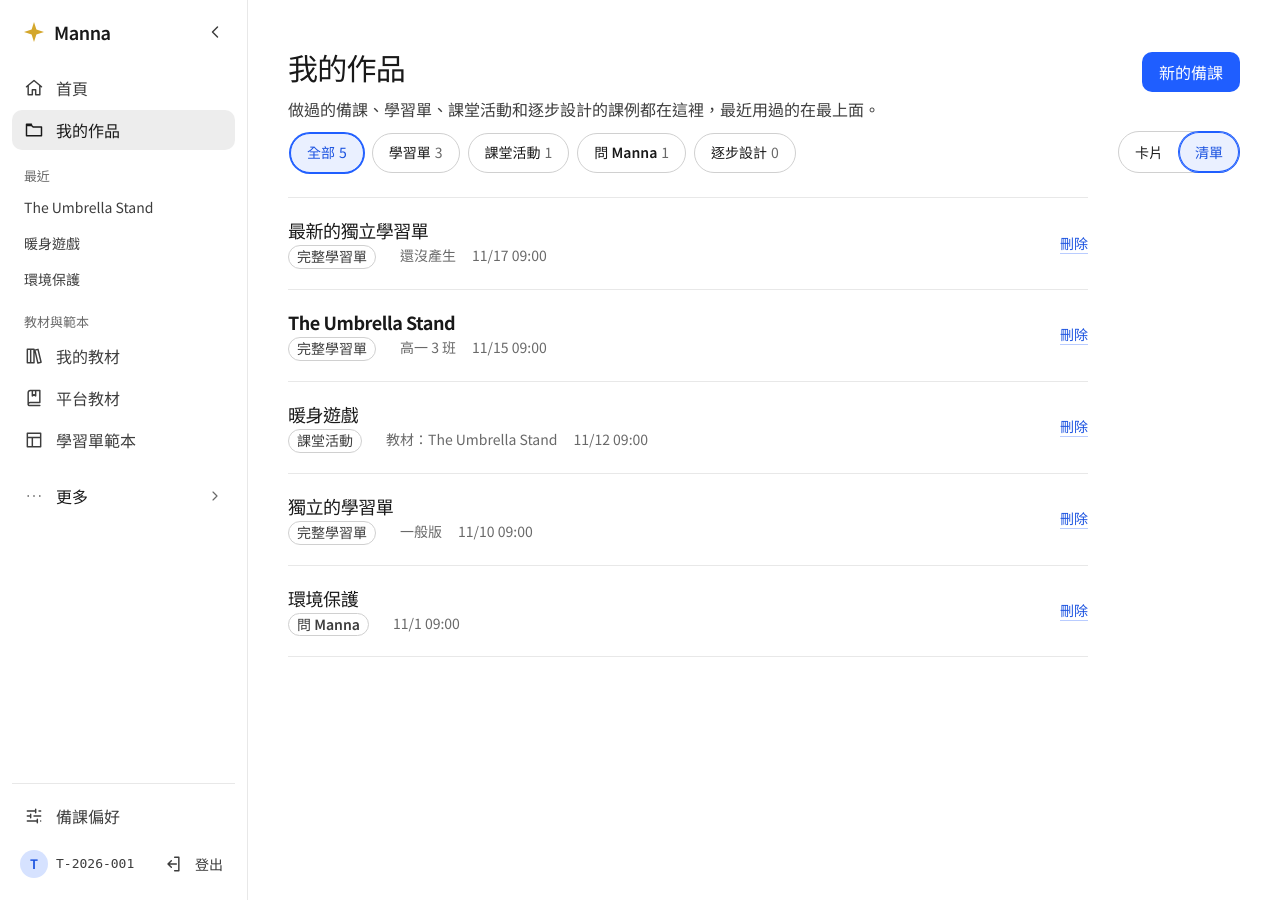
Test: 我的作品 › deletes from the list view too, and says a failure in the row
The width and height of the screenshot is (1280, 900).
Expected: the list named "我的作品" is shown, [288,197,1088,657]
Click the button with aria-label "刪除 獨立的學習單" at (1074, 519), box [1060,508,1088,530]
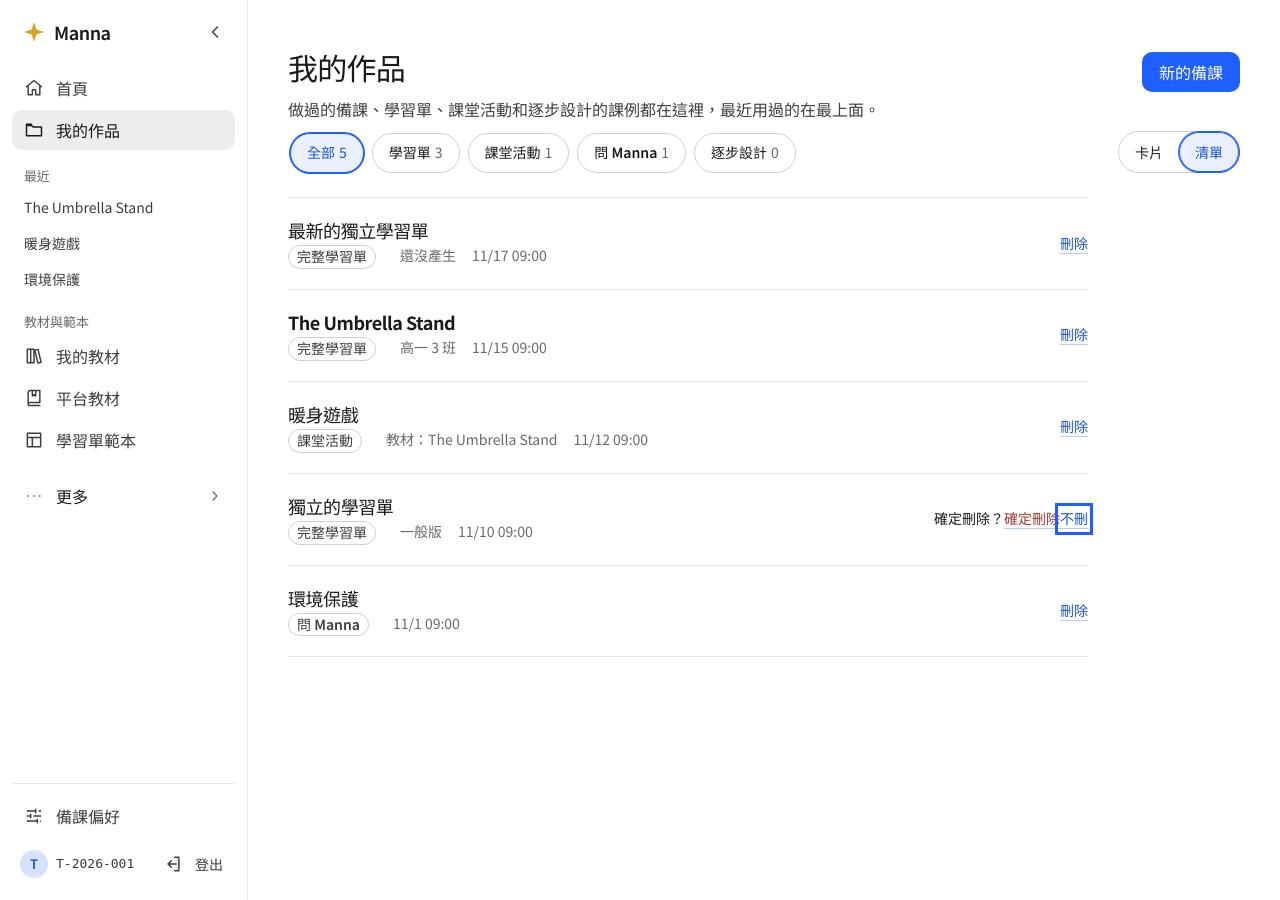
Click the button "確定刪除" at (1032, 519), box [1004,508,1060,530]
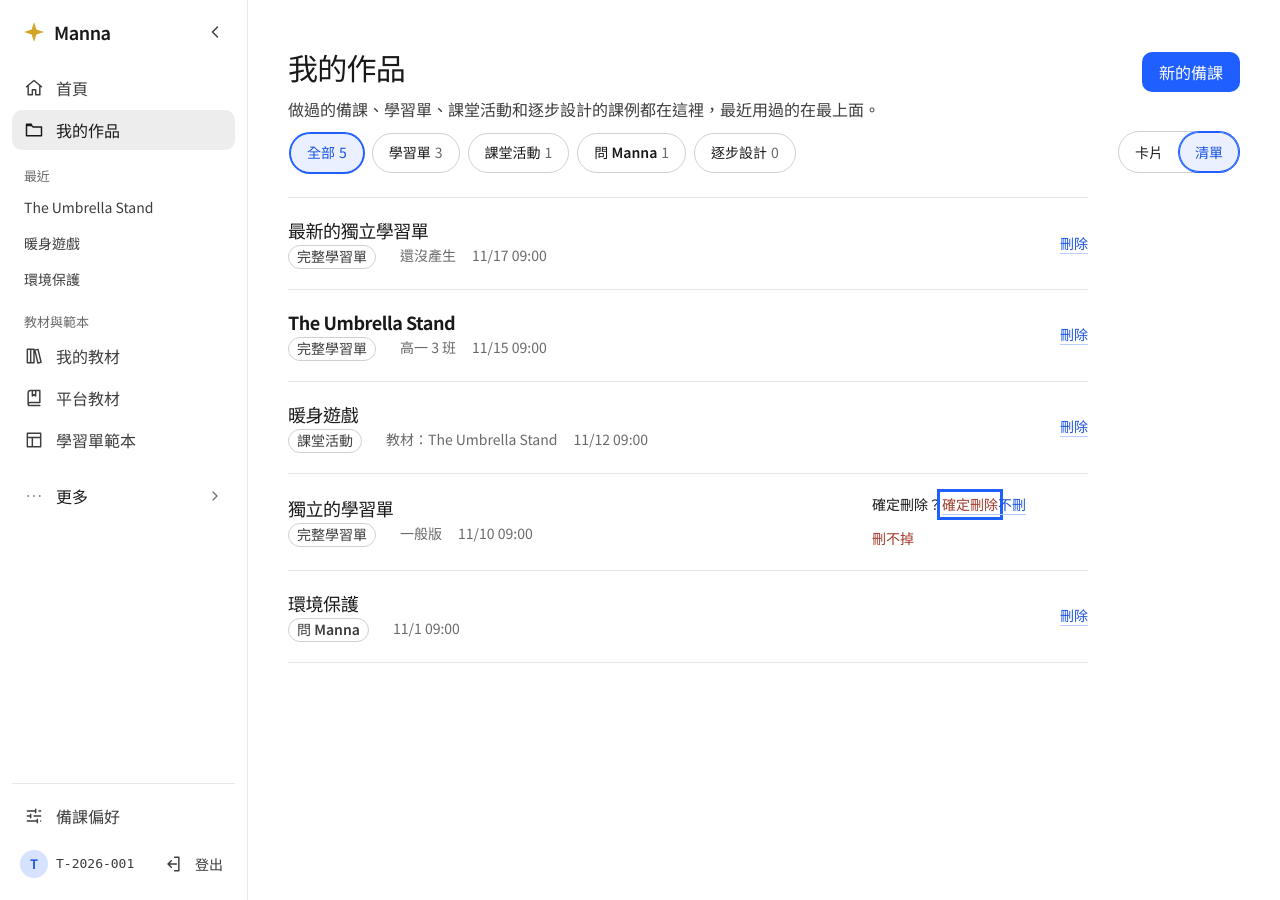
Expected: the message reads "刪不掉", [872,528,914,548]
Click the button "不刪" at (1012, 504), box [998,494,1026,515]
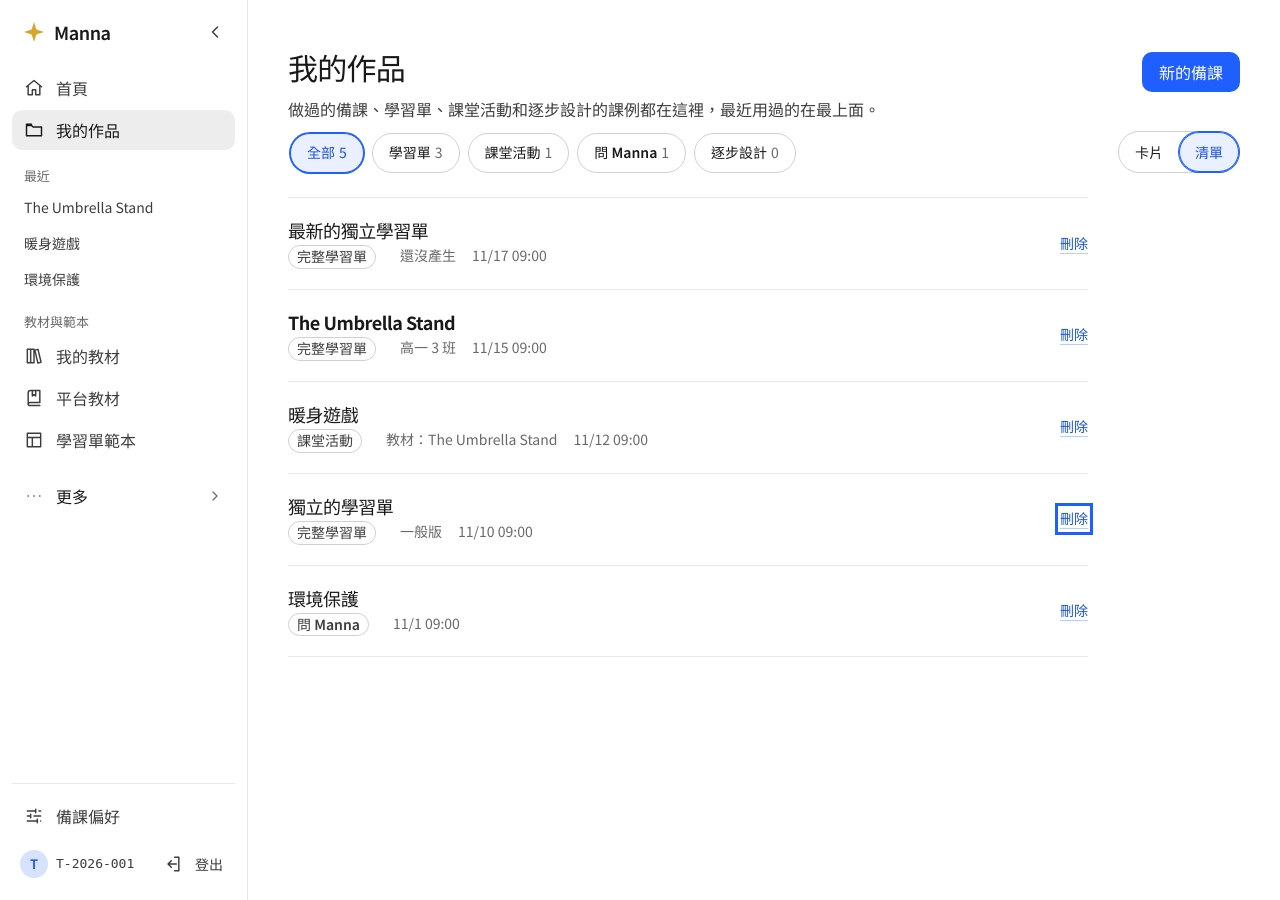
Click the button with aria-label "刪除 最新的獨立學習單" at (1074, 243), box [1060,233,1088,254]
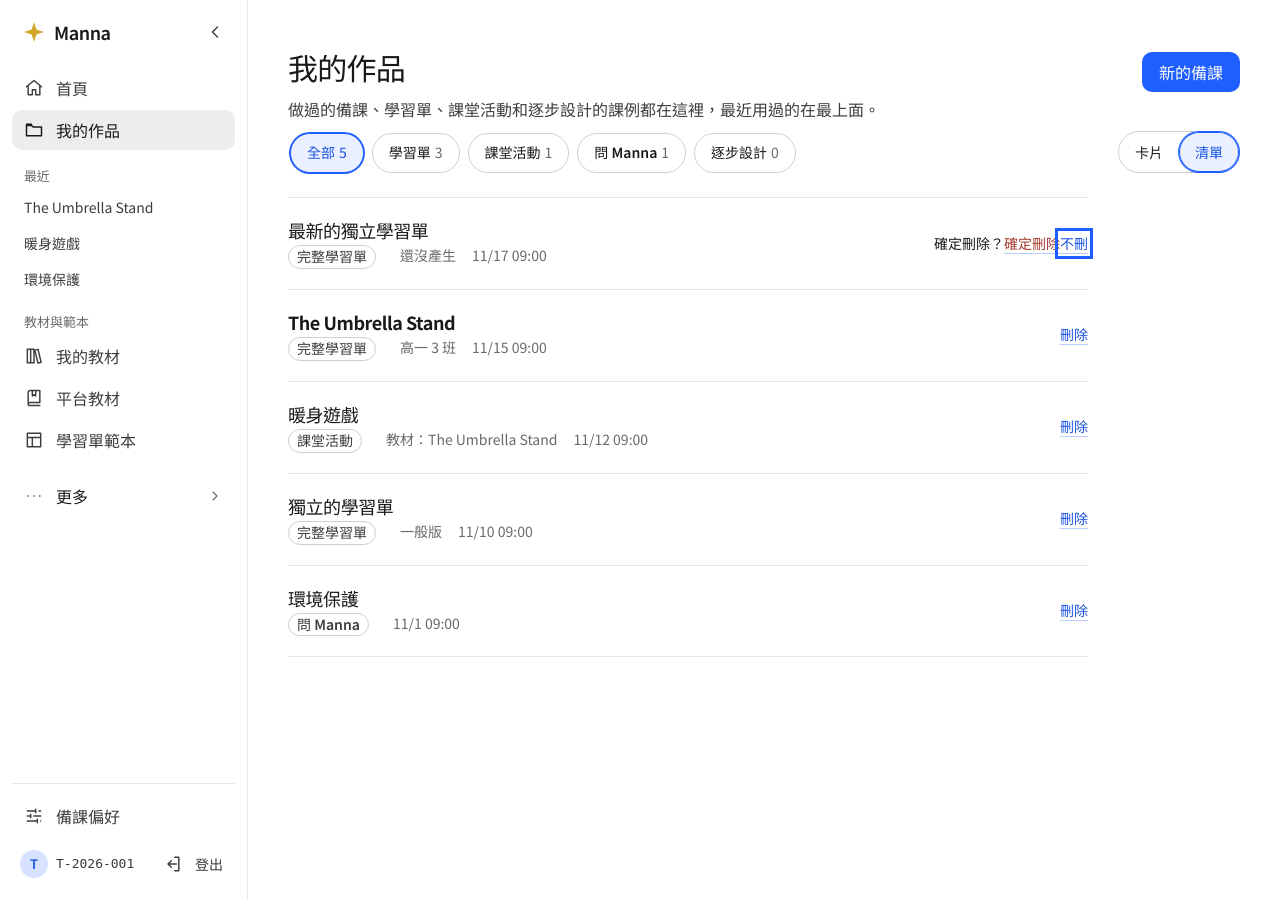
Click the button "確定刪除" at (1032, 243), box [1004,233,1060,254]
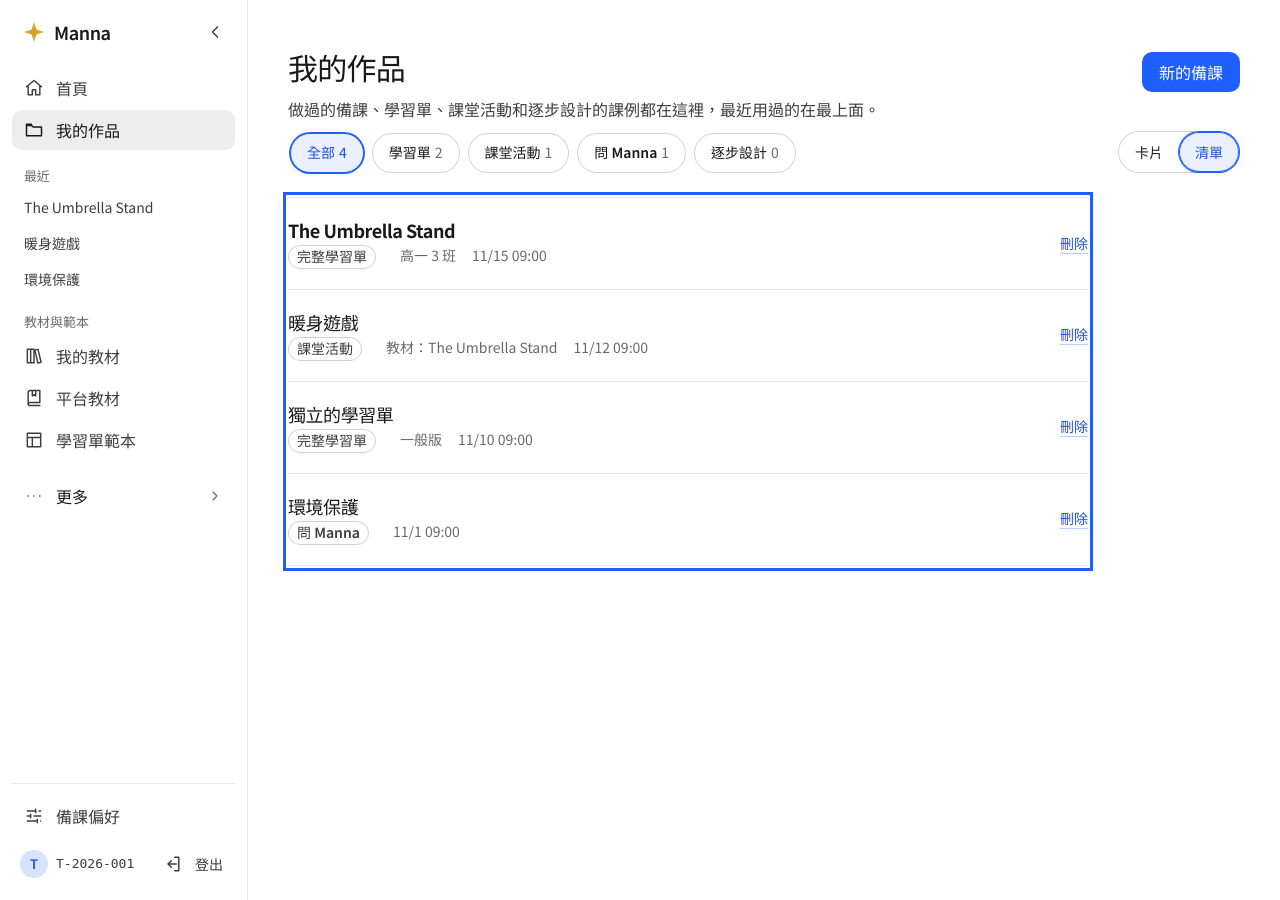
Expected: the link "最新的獨立學習單" is gone
